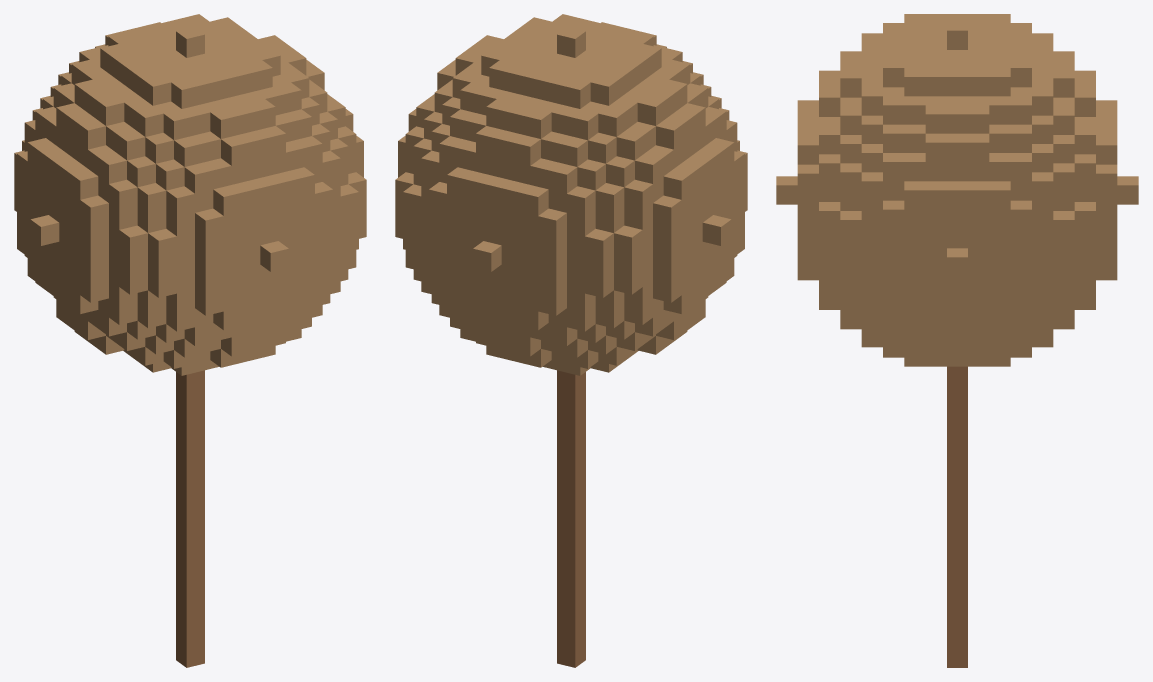
The model's file is marketing-16.glb.
The picture shows the model from 3 angles, left to right: view 1: azimuth 30°, elevation 25°; view 2: azimuth 150°, elevation 25°; view 3: azimuth 270°, elevation 25°; orthographic projection.
Parts seen in each view (by area): view 1: Launch balloon; view 2: Launch balloon; view 3: Launch balloon.
Part boxes in pixels (x1,y1,x2,y2): Launch balloon: (14, 14, 366, 667); Launch balloon: (395, 14, 747, 667); Launch balloon: (776, 14, 1138, 667).
Bounding box in the file's own units: 1.36 × 2.64 × 1.36.
